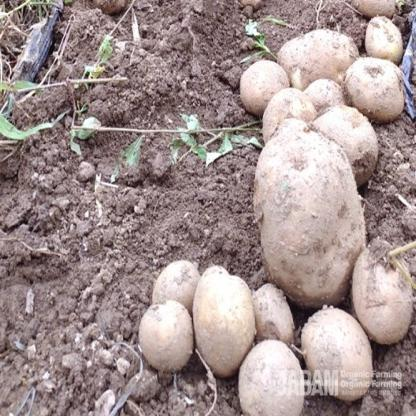potato: (258, 123, 373, 306), (188, 254, 268, 380), (298, 297, 382, 405), (307, 95, 390, 202), (260, 20, 366, 100), (352, 228, 416, 343), (342, 46, 416, 130)
